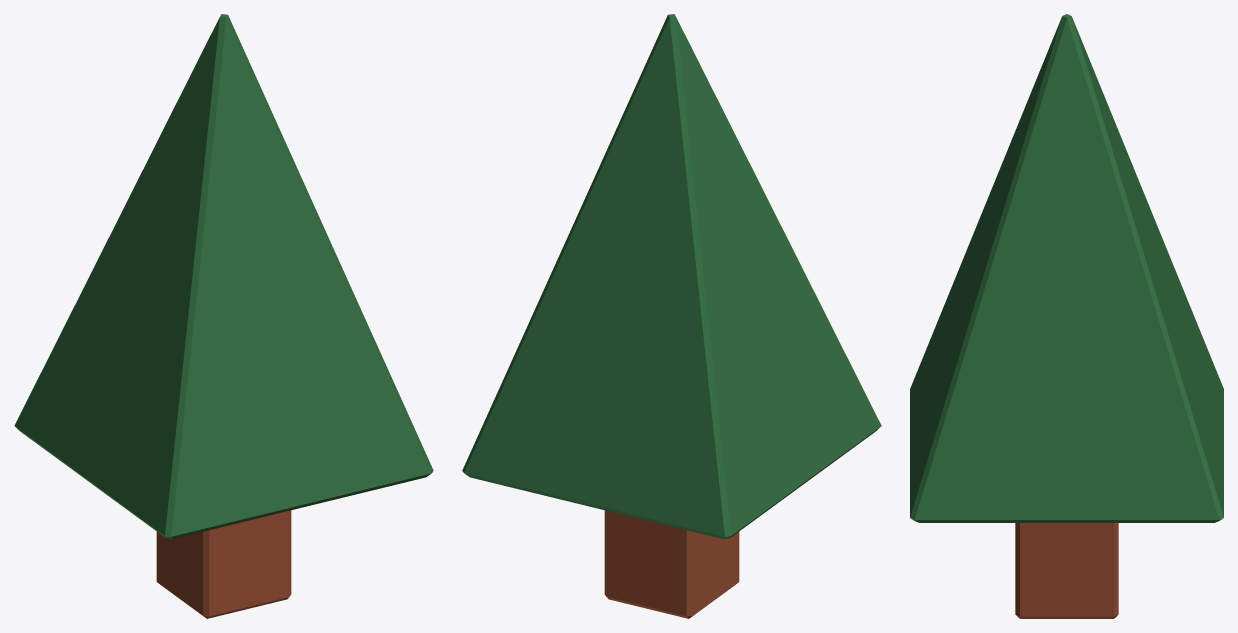
File: Tree.fbx
3 views of the same model, side by side, from view 1: azimuth 30°, elevation 25°; view 2: azimuth 150°, elevation 25°; view 3: azimuth 270°, elevation 25° (orthographic).
Visible parts, largest first — view 1: pPlane1; view 2: pPlane1; view 3: pPlane1.
Part boxes in pixels (box(x1,y1,x2,y2)): pPlane1: box(14, 14, 433, 618); pPlane1: box(462, 14, 881, 618); pPlane1: box(910, 14, 1223, 618).
Size of the model in its own units: 235 by 481 by 235.
